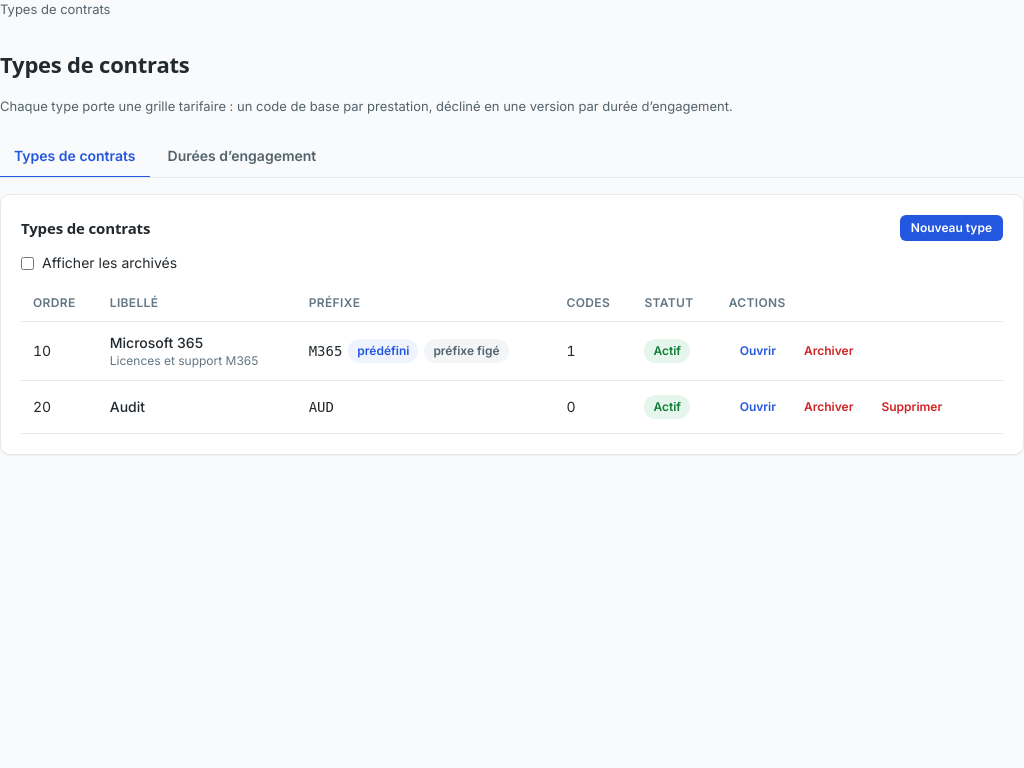
Scenario: création : préfixe mis en majuscules, conflit PREFIX_TAKEN affiché
Click the button "Nouveau type": (951, 228) [900,215,1003,241]
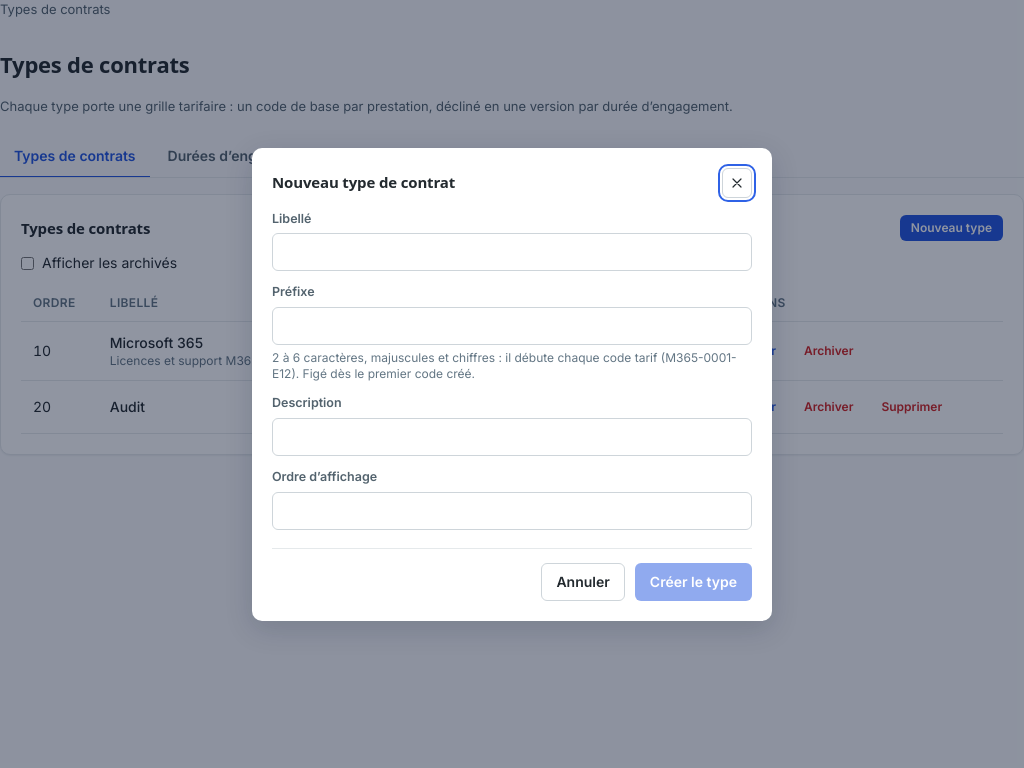
In the field labelled "Libellé": (512, 252) [272,233,752,271], type "Sécurité"
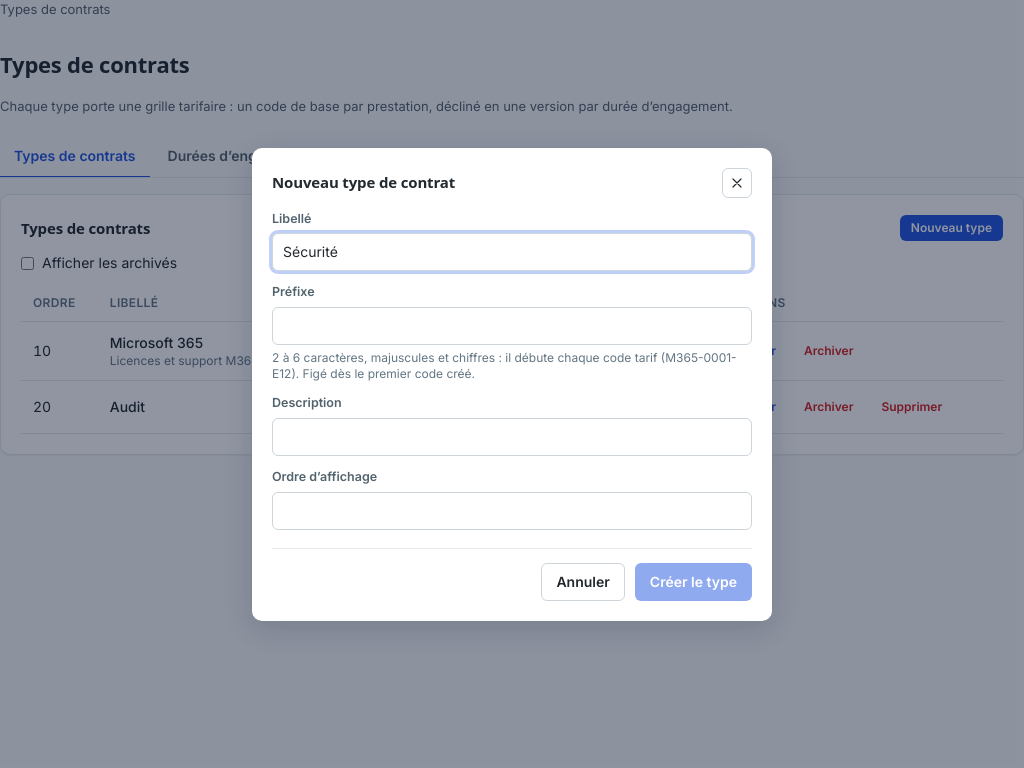
In the field labelled "Préfixe": (512, 326) [272,307,752,345], type "sec"
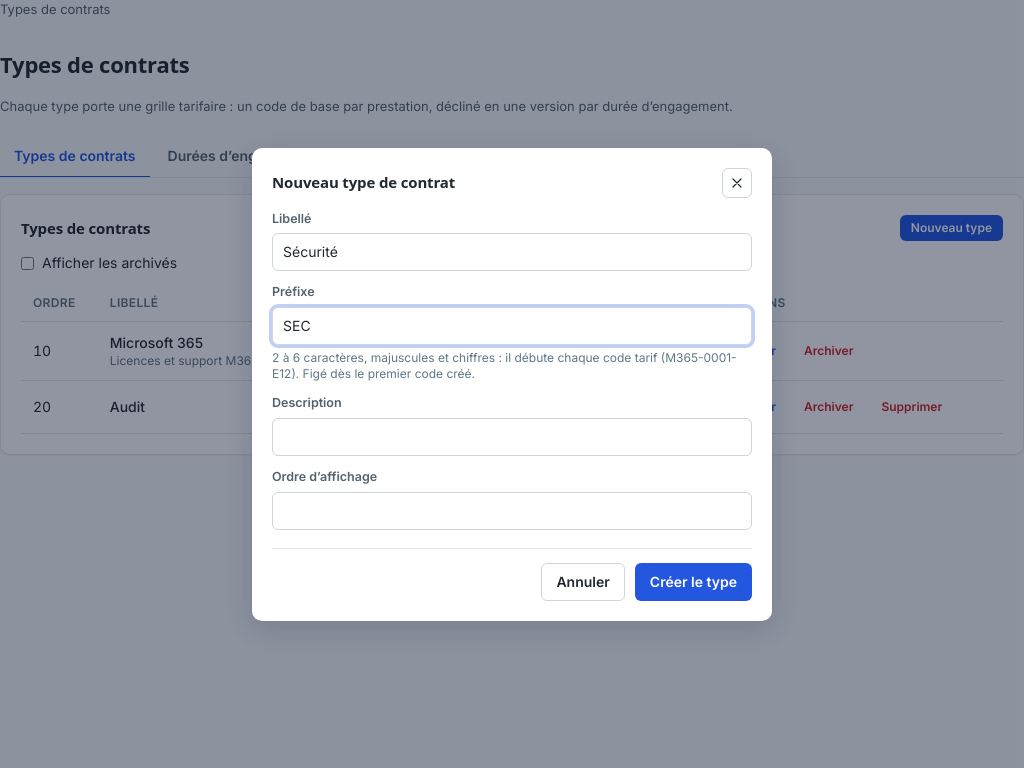
In the field labelled "Ordre d’affichage": (512, 510) [272,492,752,530], type "30"
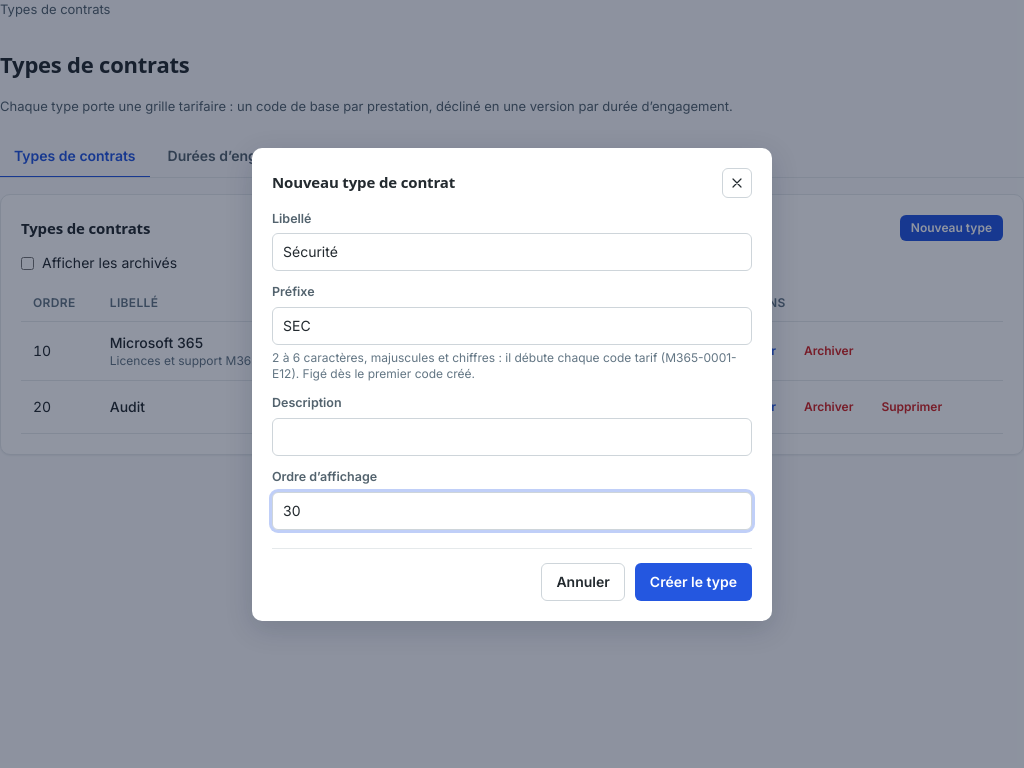
Click the button "Créer le type": (693, 582) [635,562,752,600]
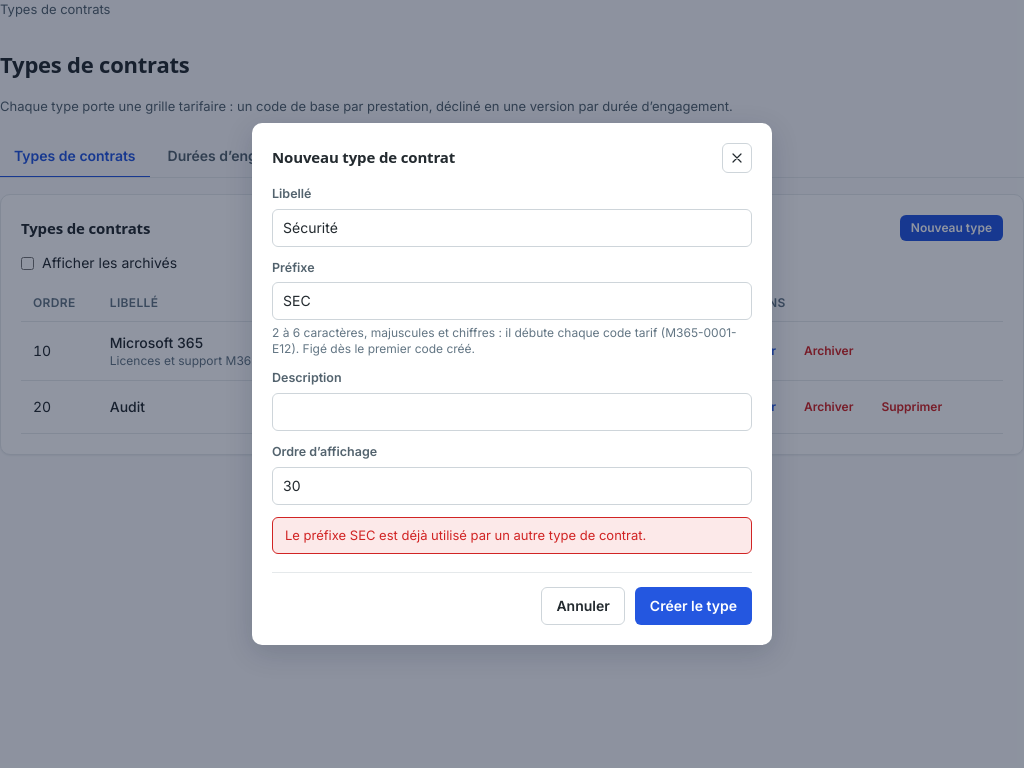
Expected: the message shows "Le préfixe SEC est déjà utilisé", [285,527,646,543]
